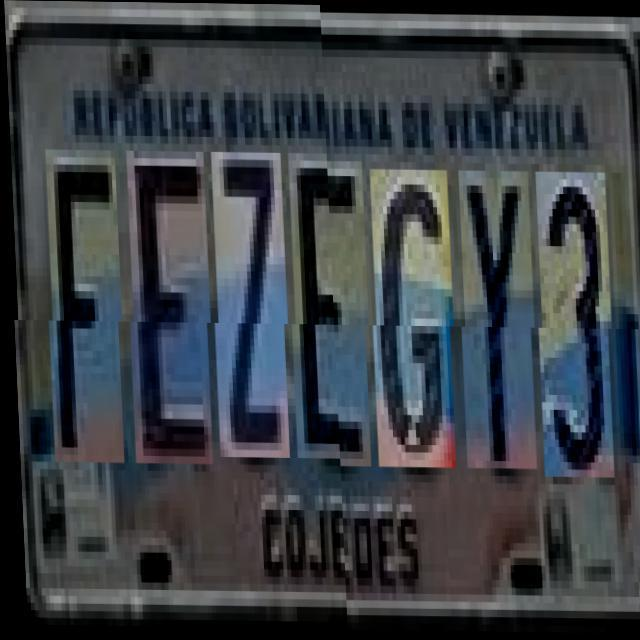3: (534, 170, 614, 476)
E: (125, 158, 213, 471), (287, 160, 371, 466)
F: (44, 157, 124, 470)
G: (368, 168, 456, 466)
Y: (457, 169, 537, 467)
Z: (210, 159, 290, 465)
